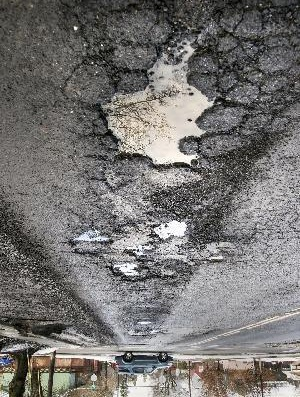pothole: (92, 33, 222, 174), (68, 228, 114, 257), (108, 261, 150, 285), (149, 216, 189, 241), (120, 245, 153, 263), (206, 253, 225, 264)
